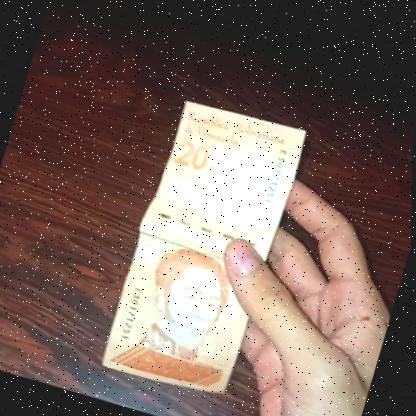twenty-front-vef: (99, 92, 309, 405)
